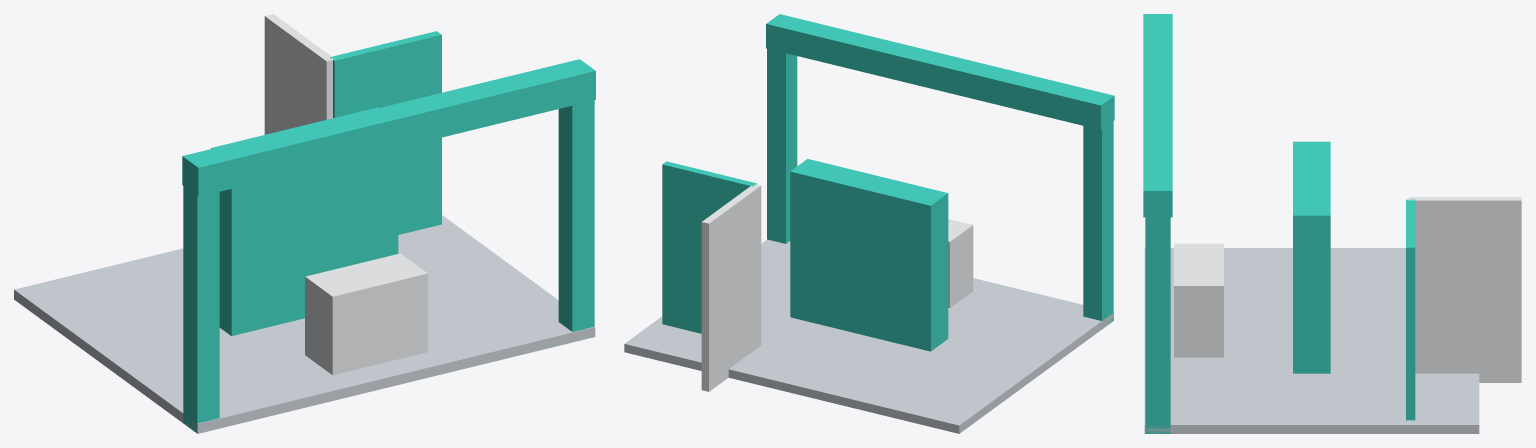
3 views of the same model, side by side, from view 1: azimuth 30°, elevation 25°; view 2: azimuth 150°, elevation 25°; view 3: azimuth 270°, elevation 25° (orthographic). The views are drawn at different scales.
Visible parts, largest first — view 1: Exhibition Booth Concept; view 2: Exhibition Booth Concept; view 3: Exhibition Booth Concept.
Boxes of the visible parts, x1=… form: Exhibition Booth Concept: x1=14, y1=14, x2=595, y2=433; Exhibition Booth Concept: x1=624, y1=14, x2=1114, y2=433; Exhibition Booth Concept: x1=1143, y1=14, x2=1521, y2=433.
Bounding box in the file's own units: 5 × 3.2 × 4.52.
